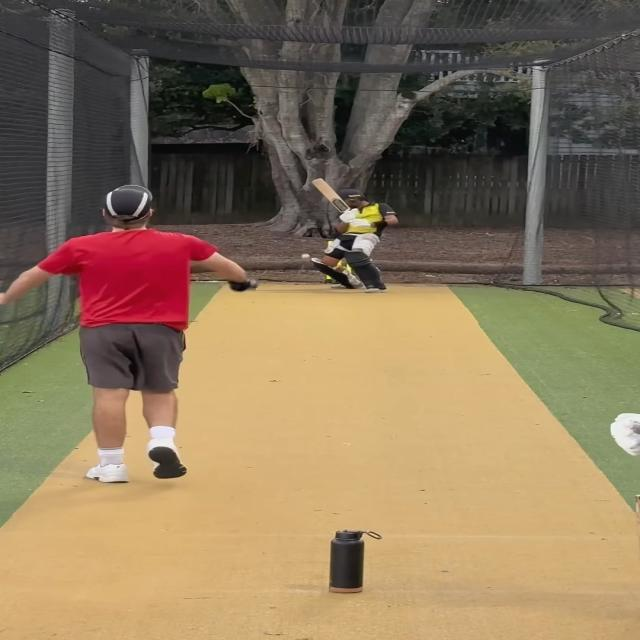Cricket ball: (300, 253, 312, 259)
